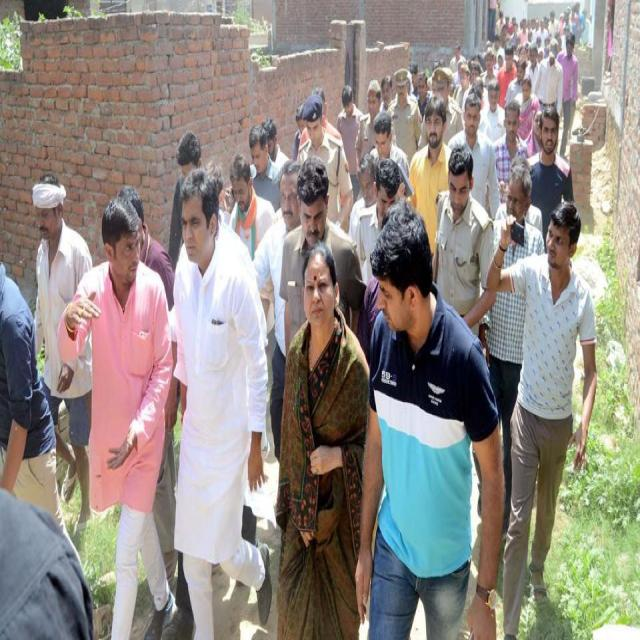body: (354, 207, 510, 639), (55, 190, 175, 639), (484, 197, 598, 639), (171, 165, 274, 639), (274, 244, 380, 639), (470, 169, 548, 549), (377, 2, 616, 124), (115, 182, 183, 586), (0, 258, 85, 578), (31, 172, 93, 537), (277, 154, 369, 366), (0, 475, 97, 640), (431, 142, 497, 340), (211, 481, 275, 640), (295, 94, 355, 234), (408, 93, 458, 256), (294, 91, 349, 228), (526, 104, 575, 256), (446, 93, 501, 224), (351, 157, 401, 287), (227, 151, 275, 262), (526, 108, 561, 258), (167, 129, 203, 272), (492, 156, 544, 242), (354, 80, 396, 180), (492, 97, 530, 206), (416, 66, 464, 152), (366, 109, 411, 198), (335, 82, 365, 206), (386, 67, 423, 167), (248, 123, 283, 214), (556, 31, 580, 163), (161, 552, 195, 638), (347, 151, 378, 240), (532, 36, 564, 118), (514, 74, 540, 160), (201, 154, 237, 216), (494, 42, 518, 130), (477, 77, 507, 140), (261, 116, 290, 172), (503, 55, 529, 108), (523, 40, 541, 96), (479, 46, 498, 90), (293, 103, 307, 160), (448, 42, 466, 73)
